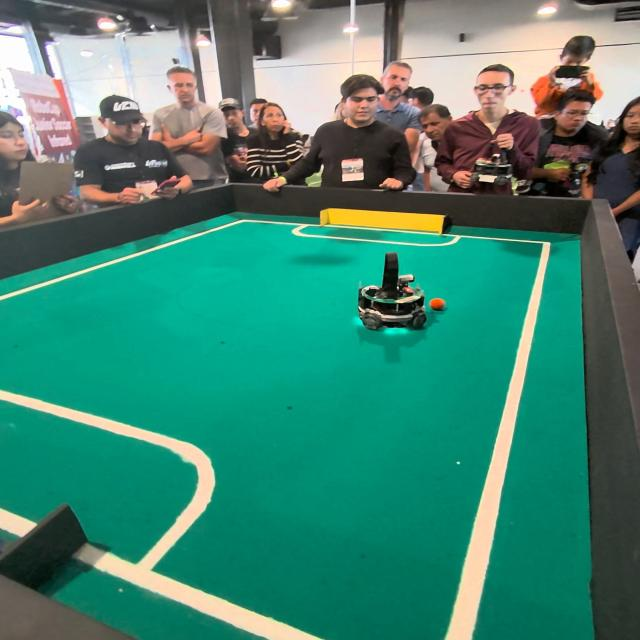Robot: (357, 252, 430, 335)
pelota: (430, 299, 446, 311)
